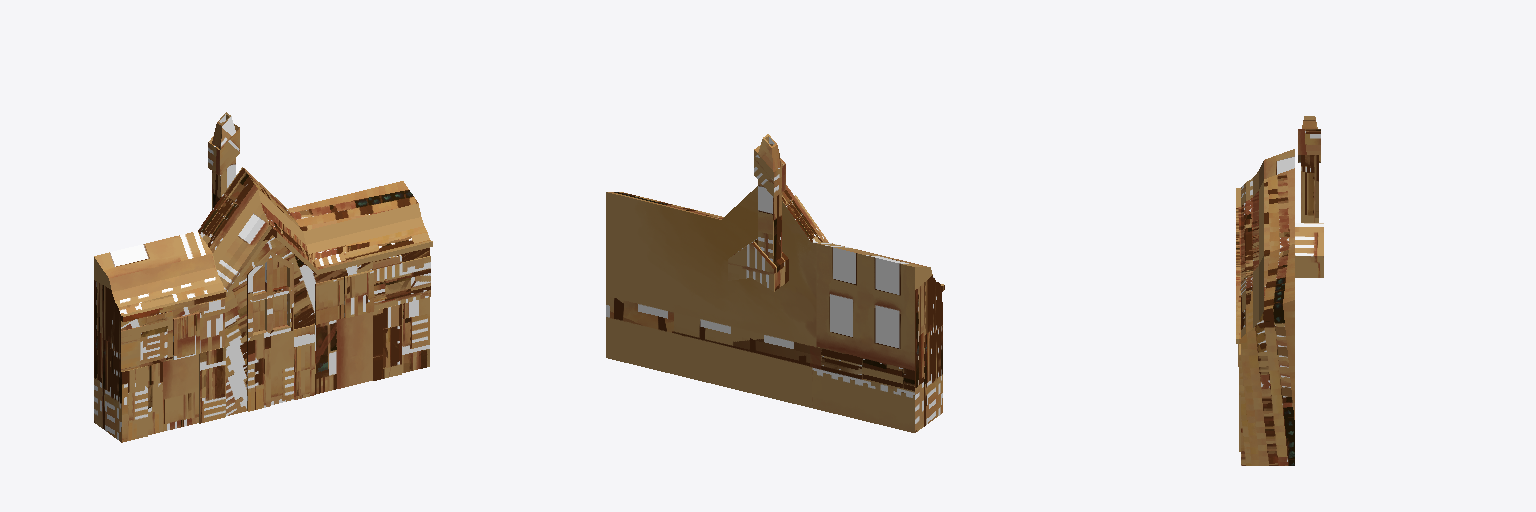
3 views of the same model, side by side, from view 1: azimuth 30°, elevation 25°; view 2: azimuth 150°, elevation 25°; view 3: azimuth 270°, elevation 25° (orthographic).
Visible parts, largest first — view 1: House_face_1_Material_Material; view 2: House_face_1_Material_Material; view 3: House_face_1_Material_Material.
Boxes of the visible parts, box(x1,y1,x2,y2) form: House_face_1_Material_Material: box(94, 112, 432, 442); House_face_1_Material_Material: box(606, 134, 944, 432); House_face_1_Material_Material: box(1236, 116, 1323, 465).
Bounding box in the file's own units: 34.67 × 28.72 × 8.61.
Materials: 1 (1 with a texture image).